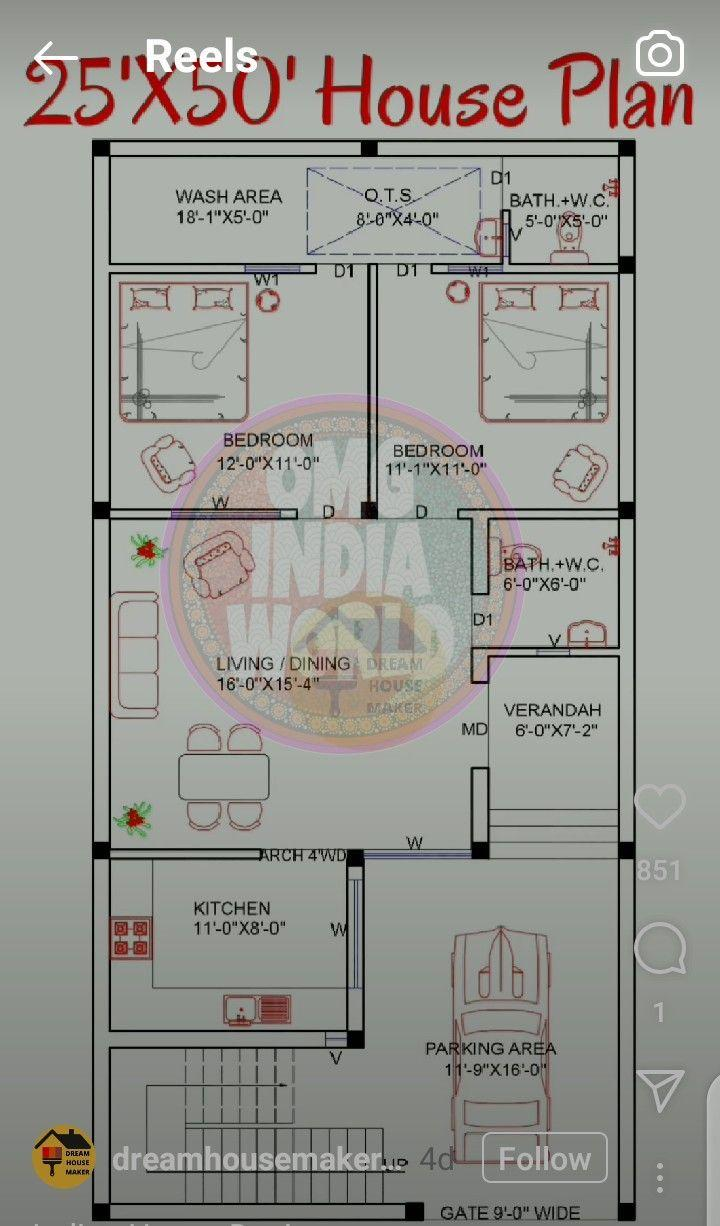Blueprint: (79, 122, 658, 1226)
wall: (90, 858, 113, 1203), (90, 516, 112, 844), (92, 155, 111, 503), (618, 861, 637, 1203), (618, 519, 637, 844), (109, 1202, 406, 1221), (110, 1028, 347, 1050), (618, 272, 638, 501), (377, 140, 620, 158), (111, 141, 362, 157), (367, 264, 379, 504), (430, 262, 619, 276), (110, 847, 263, 862), (619, 153, 638, 257), (459, 507, 620, 519), (470, 518, 491, 596), (472, 646, 620, 657), (471, 767, 493, 841), (108, 263, 247, 274), (346, 986, 365, 1031), (110, 508, 173, 521), (471, 656, 491, 685), (346, 867, 364, 881)
